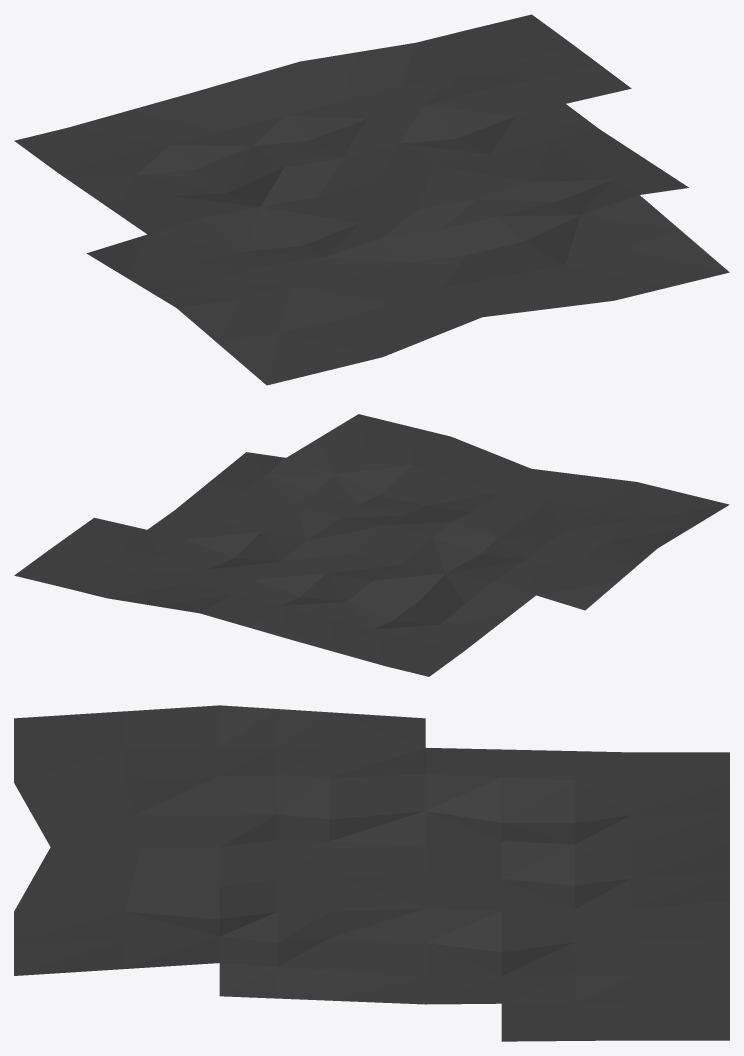
File: Cave_14_Down.fbx
The picture shows the model from 3 angles, top to bottom: view 1: azimuth 30°, elevation 25°; view 2: azimuth 150°, elevation 25°; view 3: azimuth 270°, elevation 25°; orthographic projection. The views are drawn at different scales.
Parts seen in each view (by area): view 1: polySurface784; view 2: polySurface784; view 3: polySurface784.
Boxes of the visible parts, x1,y1,x2,y2 form: polySurface784: [14, 14, 729, 385]; polySurface784: [14, 414, 729, 676]; polySurface784: [14, 705, 729, 1041].
Bounding box in the file's own units: 50 × 1.62 × 46.96.
